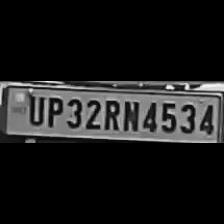2: (83, 96, 101, 130)
3: (63, 95, 81, 129), (177, 100, 195, 134)
4: (196, 100, 216, 134), (140, 97, 156, 132)
5: (158, 99, 176, 133)
N: (122, 98, 139, 132)
P: (44, 94, 62, 128)
R: (101, 96, 119, 132)
U: (24, 92, 43, 125)
